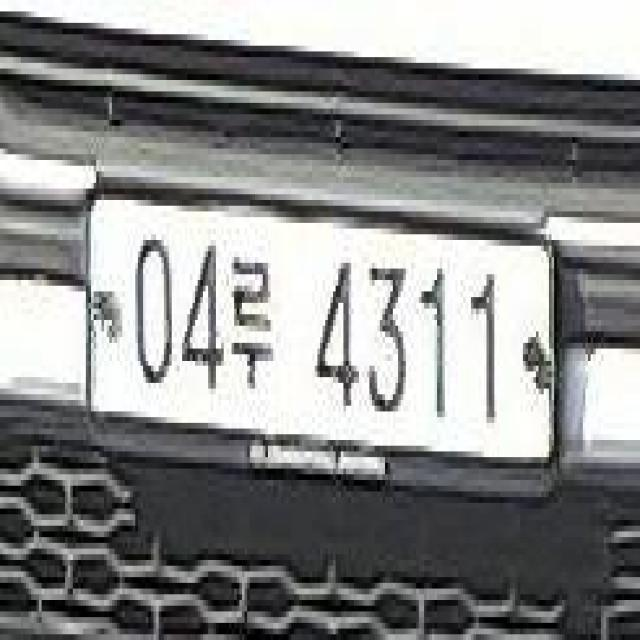illegal_plate: (84, 180, 561, 512)
